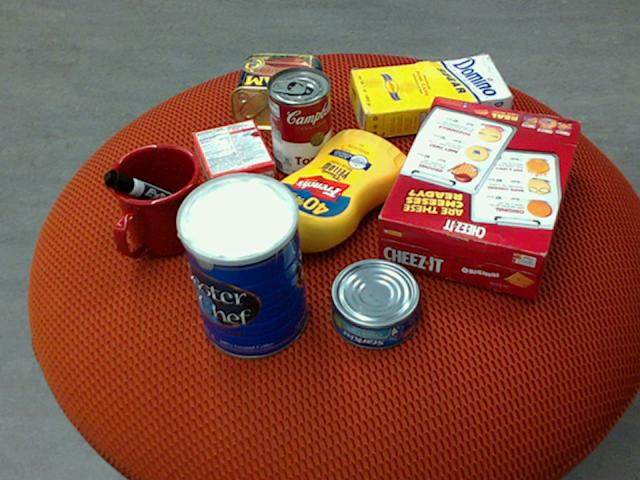cracker_box: (377, 95, 582, 297)
gelatin_box: (191, 118, 274, 197)
large_marker: (102, 170, 200, 220)
master_chef_can: (172, 174, 308, 359)
mug: (105, 143, 206, 257)
mustard_bottle: (253, 129, 409, 262)
potted_meat_can: (231, 53, 323, 130)
sugar_box: (348, 53, 513, 139)
tomato_soup_can: (267, 65, 331, 176)
tuna_fish_can: (331, 258, 421, 350)
